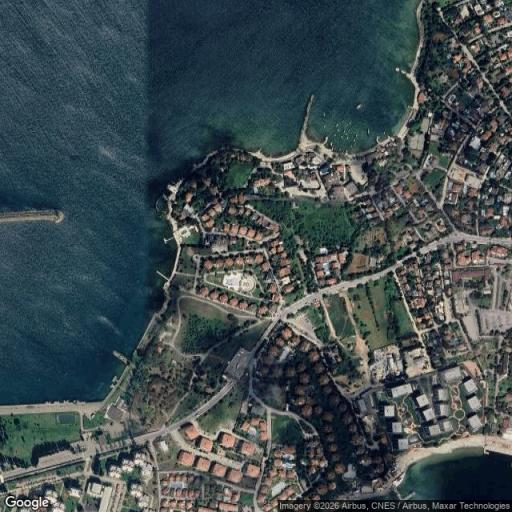ship: (381, 129, 388, 136), (322, 112, 329, 118), (322, 124, 328, 130), (356, 104, 362, 109), (336, 121, 340, 127), (336, 127, 342, 131), (340, 134, 344, 140), (350, 120, 354, 125), (352, 138, 357, 142), (346, 148, 351, 152), (346, 137, 352, 140), (330, 143, 334, 147), (342, 130, 346, 134), (348, 130, 352, 134), (334, 133, 336, 139), (356, 133, 358, 139), (346, 134, 350, 136), (368, 128, 369, 135)
